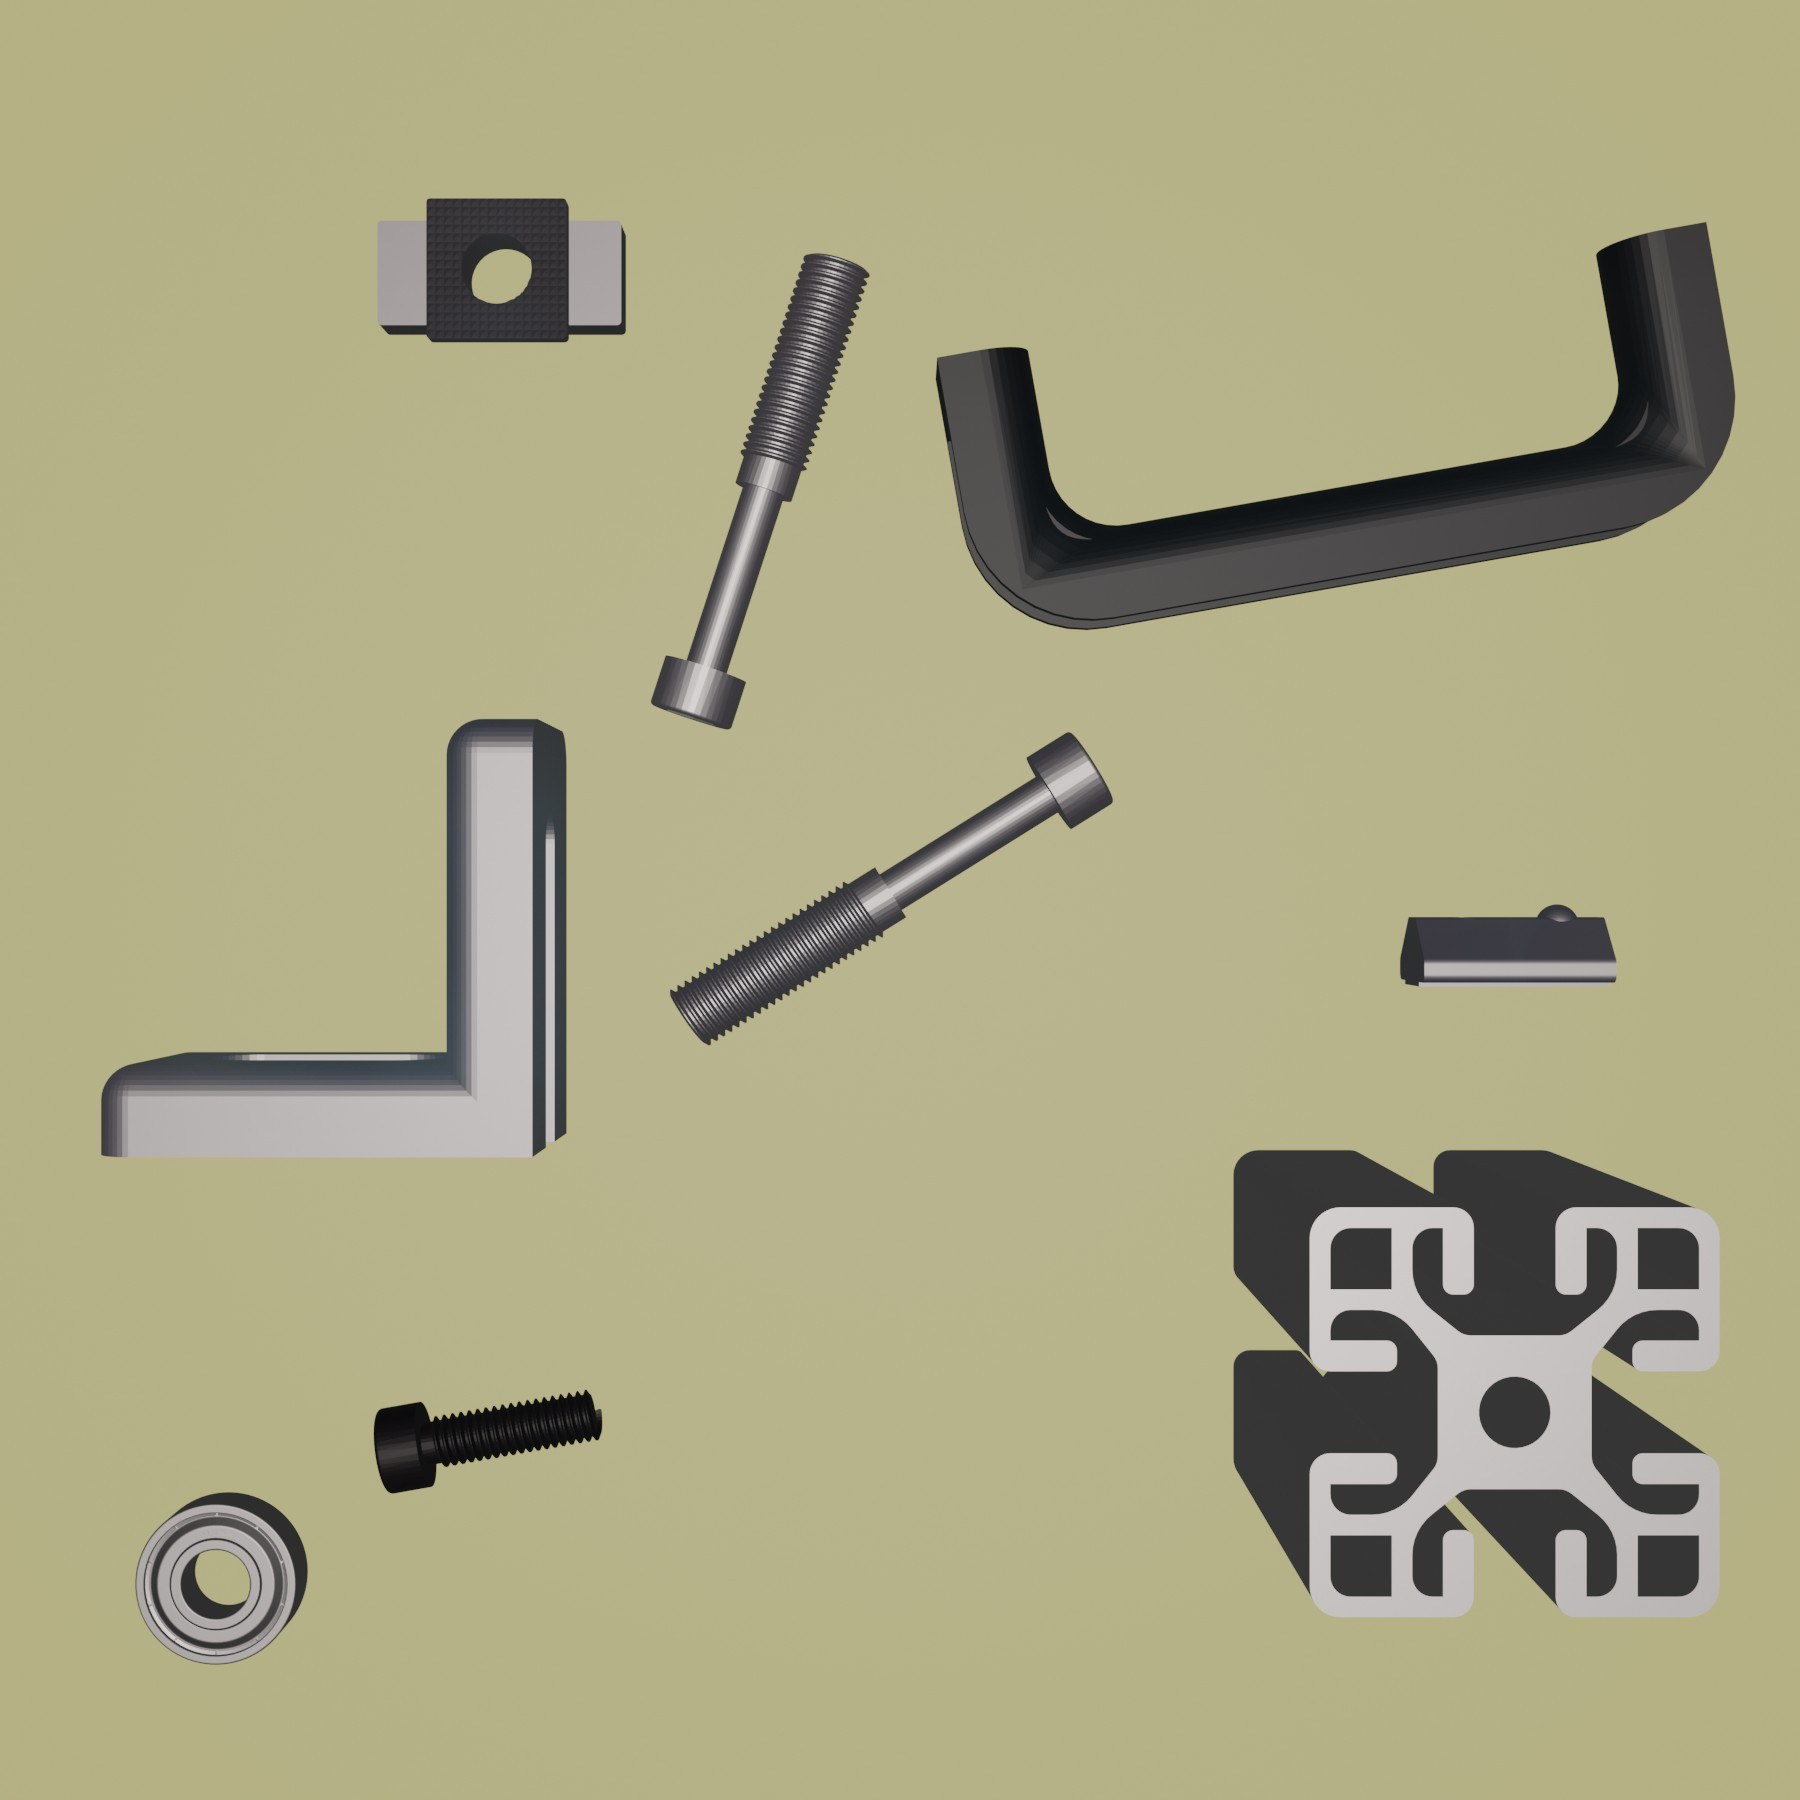Aluminium Extension: (1226, 1142, 1724, 1627)
Ball Bearing: (132, 1488, 308, 1668)
Multiwinkel: (97, 714, 570, 1164)
Pull Handle: (933, 218, 1739, 635)
Shoulder Socket Head Cap Screw: (668, 727, 1116, 1048), (648, 249, 874, 734)
Socket Head Cap Screw: (369, 1385, 605, 1497)
T Nut Square: (374, 191, 631, 346)
T Spring Nut: (1396, 898, 1620, 992)
